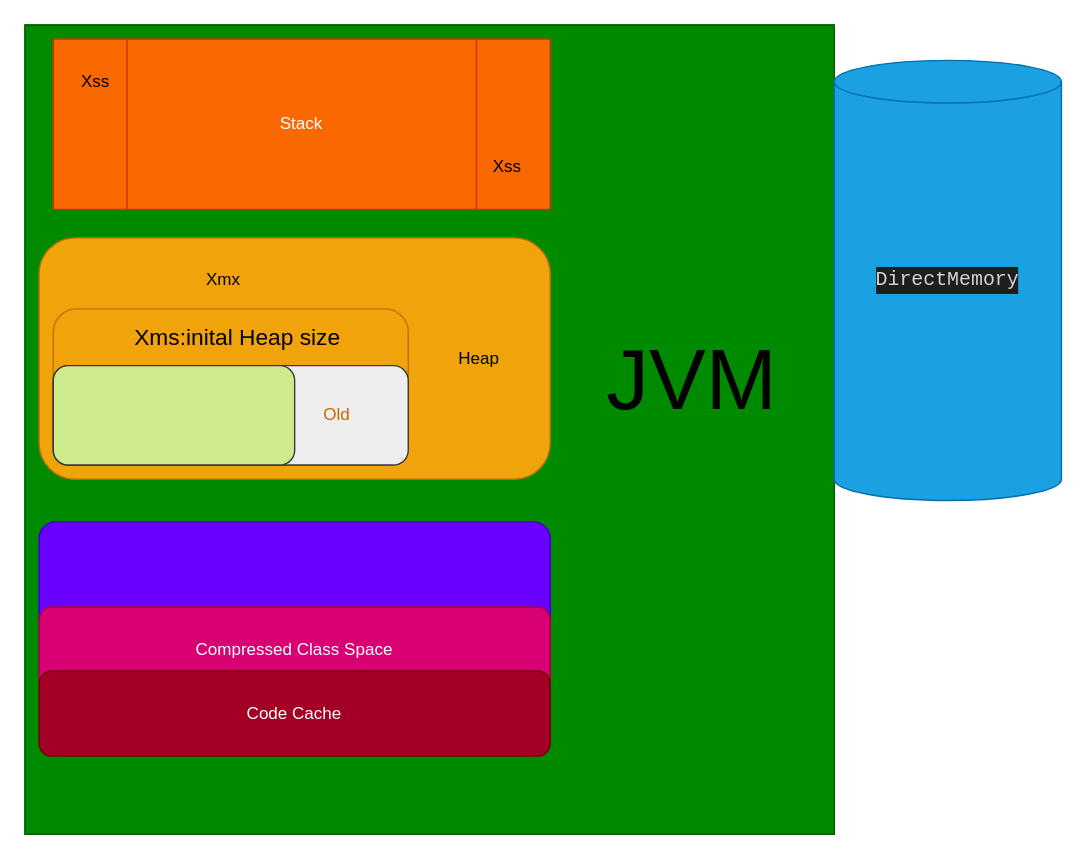
This 1086x859 diagram has some shape labels left out. Here are the shapes that lost their labels. From the top down, the box of each, then its label:
(52, 364, 295, 465): Young：Xmn
(38, 520, 550, 635): Metaspace:constant and method
